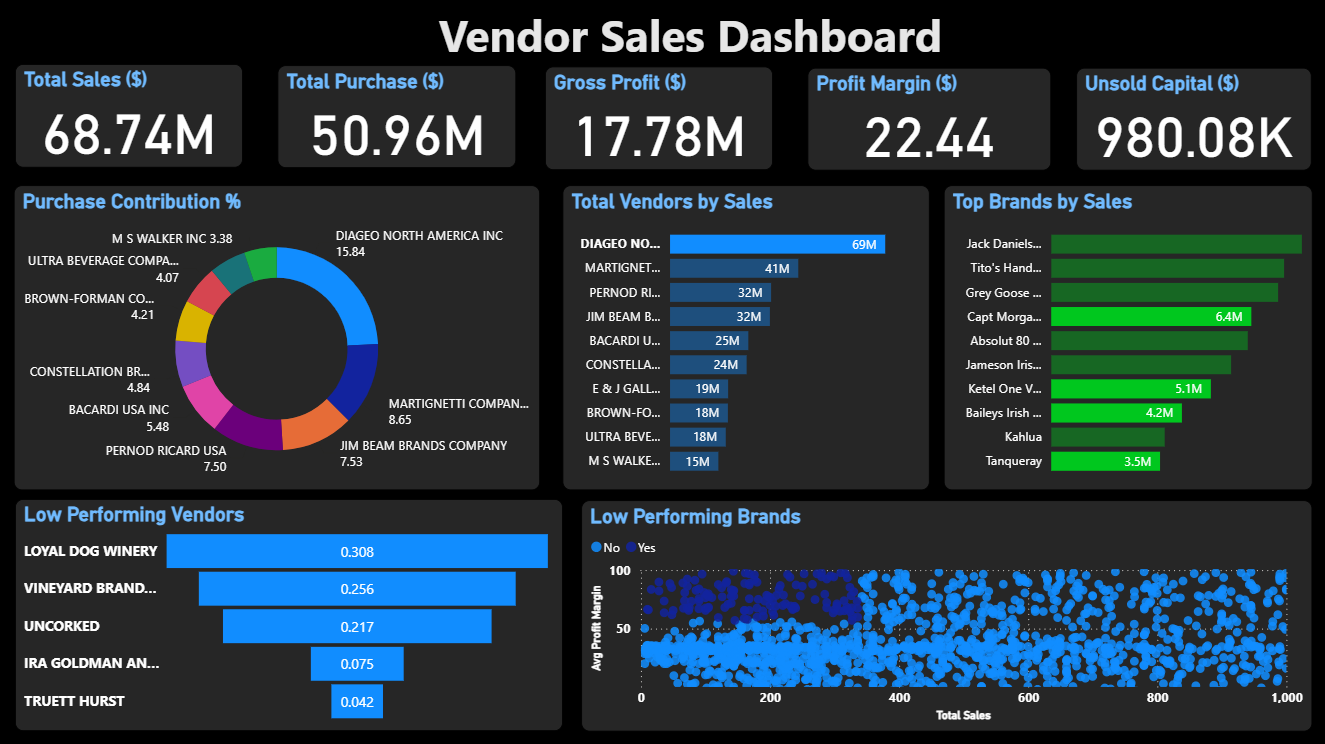

The dashboard page shown, as its layout file describes it:
{"tool":"powerbi","page":{"name":"Page 1","canvas":[1280,720],"ordinal":0},"visuals":[{"type":"textbox","box":[400,0,531.7,75.6],"z":0},{"type":"card","title":"Total Sales ($)","fields":{"Values":["Sum(vendor_sales_summary.TotalSalesDollars)"]},"box":[14.2,63.3,220,100],"z":1000},{"type":"card","title":"Total Purchase ($)","fields":{"Values":["Sum(vendor_sales_summary.TotalPurchaseDollars)"]},"box":[267.5,63.4,230.1,99.5],"z":2000},{"type":"card","title":"Gross Profit ($)","fields":{"Values":["Sum(vendor_sales_summary.GrossProfit)"]},"box":[526.5,65.7,220,100],"z":3000},{"type":"card","title":"Profit Margin ($)","fields":{"Values":["Avg(vendor_sales_summary.ProfitMargin)"]},"box":[780,65.9,235.1,99.5],"z":4000},{"type":"card","title":"Unsold Capital ($)","fields":{"Values":["vendor_sales_summary.UnsoldCapital"]},"box":[1038.2,66,227.4,99],"z":5000},{"type":"donutChart","title":"Purchase Contribution %","fields":{"Y":["PurchaseContribution.PurchaseContribution%"],"Series":["PurchaseContribution.VendorName"],"Category":["PurchaseContribution.VendorName"]},"box":[13.3,179.8,507.9,294.4],"z":6000},{"type":"barChart","title":"Total Vendors by Sales","fields":{"Category":["vendor_sales_summary.VendorName"],"Y":["Sum(vendor_sales_summary.TotalSalesDollars)"]},"box":[542.9,179.8,354.7,294.4],"z":7000},{"type":"barChart","title":"Top Brands by Sales","fields":{"Category":["vendor_sales_summary.Description"],"Y":["Sum(vendor_sales_summary.TotalSalesDollars)"]},"box":[910.9,179.8,355.9,294.4],"z":8000},{"type":"funnel","title":"Low Performing Vendors","fields":{"Category":["LowTurnover.VendorName"],"Y":["Avg(LowTurnover.AvgStockTurnOver)"]},"box":[14.5,482.6,528.4,224.4],"z":9000},{"type":"scatterChart","title":"Low Performing Brands","fields":{"Category":["BrandPerformance.Description"],"X":["Sum(BrandPerformance.TotalSales)"],"Y":["Avg(BrandPerformance.AvgProfitMargin)"],"Series":["BrandPerformance.TargetBrand"]},"box":[561,483.8,705.8,223.2],"z":10000}]}

Visuals, with their boxes in screenshot pixels (x1, y1, x2, y2), scaled from the page's 1280x720 canvas onto the 1325x744 screenshot:
textbox: locate(414, 0, 964, 78)
"Total Sales ($)" card: locate(15, 65, 242, 169)
"Total Purchase ($)" card: locate(277, 66, 515, 168)
"Gross Profit ($)" card: locate(545, 68, 773, 171)
"Profit Margin ($)" card: locate(807, 68, 1051, 171)
"Unsold Capital ($)" card: locate(1075, 68, 1310, 171)
"Purchase Contribution %" donutChart: locate(14, 186, 540, 490)
"Total Vendors by Sales" barChart: locate(562, 186, 929, 490)
"Top Brands by Sales" barChart: locate(943, 186, 1311, 490)
"Low Performing Vendors" funnel: locate(15, 499, 562, 731)
"Low Performing Brands" scatterChart: locate(581, 500, 1311, 731)
